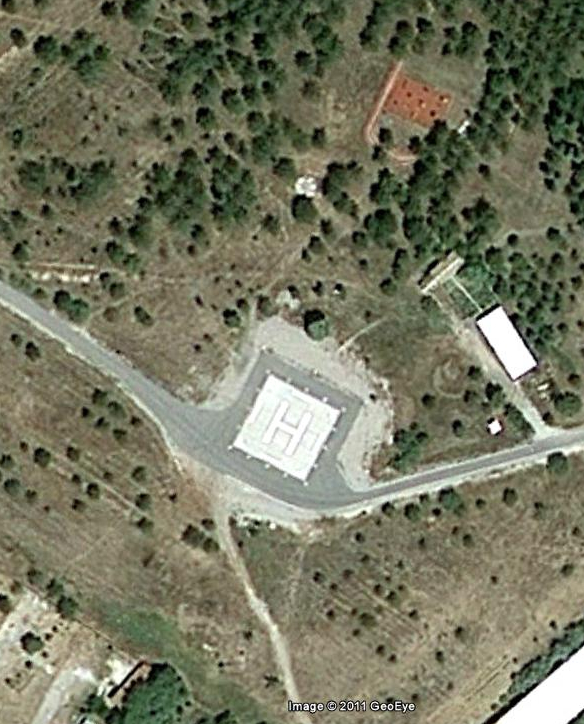heliport: (257, 392, 315, 461)
